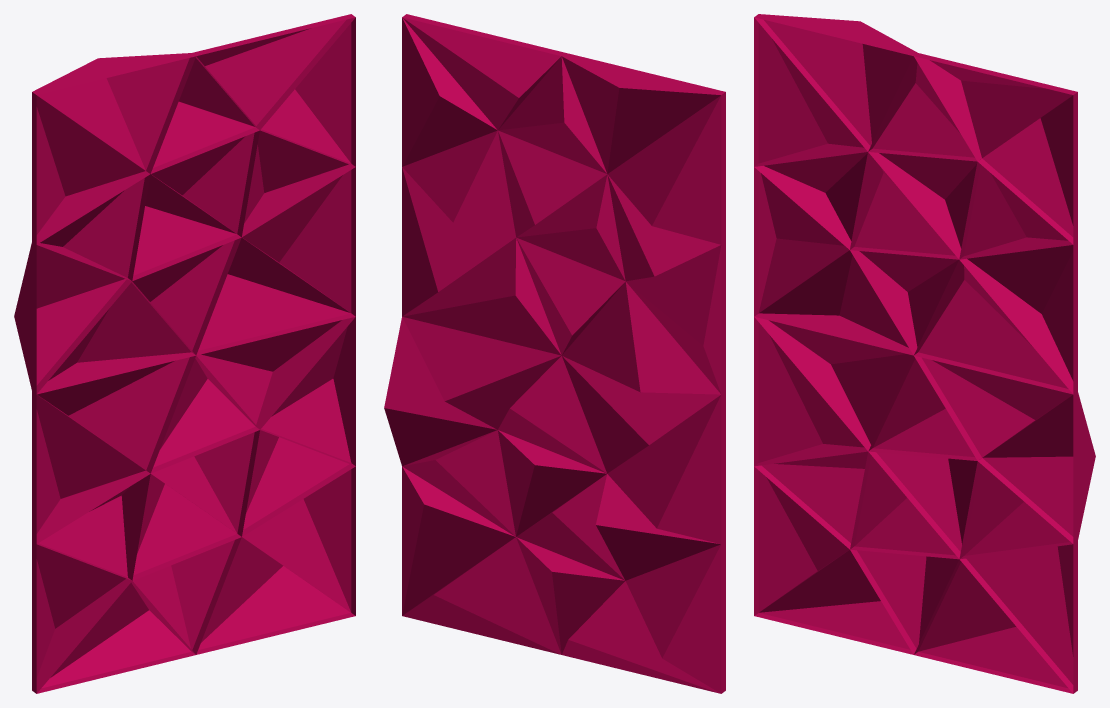
Rendered from wall_subdivs.fbx.
The picture shows the model from 3 angles, left to right: view 1: azimuth 30°, elevation 25°; view 2: azimuth 150°, elevation 25°; view 3: azimuth 330°, elevation 25°; orthographic projection.
Visible parts, largest first — view 1: WP_003, WP_014, WP_006, WP_028, WP_019, WP_025, WP_011, WP_012, WP_018, WP_001, WP_002, WP_005 (+16 smaller); view 2: WP_006, WP_019, WP_027, WP_003, WP_016, WP_015, WP_028, WP_012, WP_025, WP_002, WP_014, WP_018 (+16 smaller); view 3: WP_003, WP_025, WP_012, WP_006, WP_019, WP_020, WP_018, WP_011, WP_028, WP_002, WP_001, WP_005 (+16 smaller).
Part boxes in pixels (x1,y1,x2,y2): WP_003: (32, 53, 195, 173); WP_014: (14, 242, 131, 394); WP_006: (32, 92, 149, 244); WP_028: (193, 537, 355, 654); WP_019: (32, 391, 150, 543); WP_025: (242, 466, 355, 615); WP_011: (242, 167, 355, 316); WP_012: (192, 237, 355, 355); WP_018: (37, 355, 195, 470); WP_001: (36, 580, 195, 693); WP_002: (192, 14, 355, 129); WP_005: (256, 17, 355, 166); WP_006: (607, 92, 725, 244); WP_019: (607, 391, 725, 544); WP_027: (625, 541, 725, 693); WP_003: (562, 53, 725, 173); WP_016: (402, 316, 561, 429); WP_015: (562, 281, 720, 394); WP_028: (402, 537, 561, 654); WP_012: (402, 238, 561, 355); WP_025: (402, 466, 515, 615); WP_002: (402, 14, 565, 129); WP_014: (626, 242, 725, 394); WP_018: (562, 356, 720, 473); WP_003: (754, 14, 917, 151); WP_025: (960, 541, 1077, 693); WP_012: (914, 259, 1073, 394); WP_006: (754, 17, 870, 166); WP_019: (754, 317, 869, 466); WP_020: (978, 391, 1095, 543); WP_018: (754, 313, 915, 450); WP_011: (960, 242, 1077, 394); WP_028: (914, 559, 1073, 693); WP_002: (914, 53, 1077, 161); WP_001: (754, 550, 913, 654); WP_005: (978, 92, 1077, 244).
Bounding box in the file's own units: 2041 × 3658 × 249.
